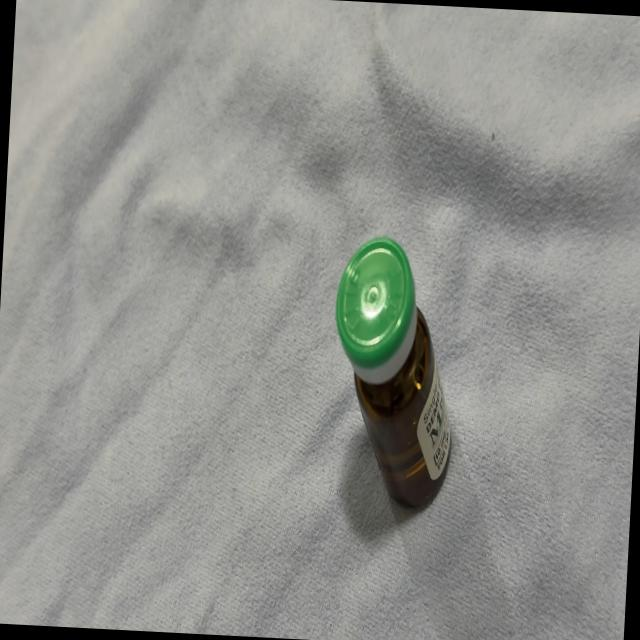midazolm: (328, 240, 459, 506)
